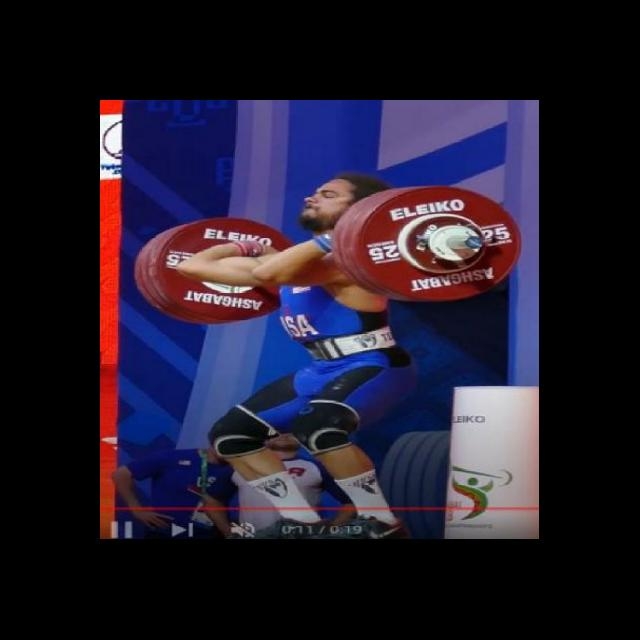barbell: (331, 182, 529, 308)
